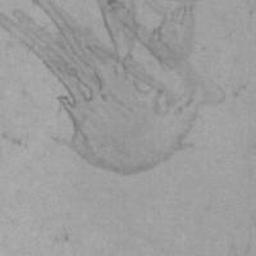Water spot: (0, 0, 228, 178)
